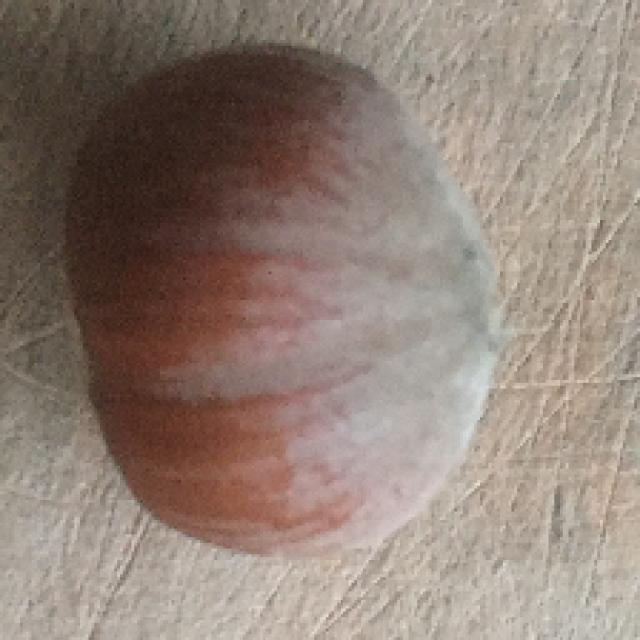QualityHazelnut: (57, 44, 509, 555)
